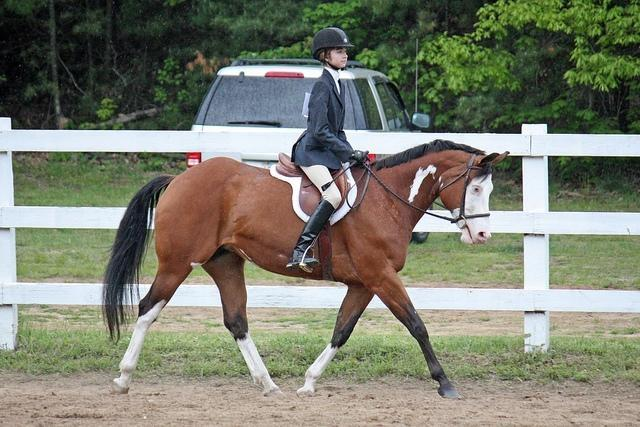car: (186, 59, 430, 172)
